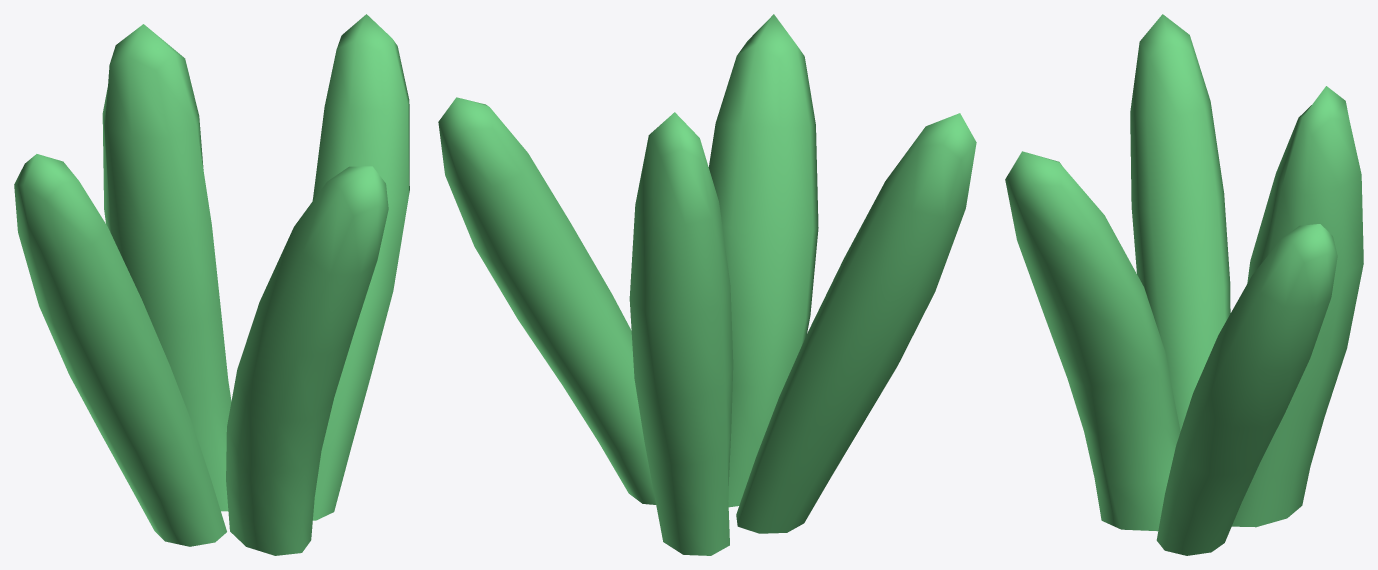
The model's file is Grass_A_02.fbx.
3 views of the same model, side by side, from view 1: azimuth 30°, elevation 25°; view 2: azimuth 150°, elevation 25°; view 3: azimuth 270°, elevation 25° (orthographic). The views are drawn at different scales.
Parts seen in each view (by area): view 1: Grass_A_02_LOD0; view 2: Grass_A_02_LOD0; view 3: Grass_A_02_LOD0.
Part boxes in pixels (<box>): Grass_A_02_LOD0: <box>14,14,409,555</box>; Grass_A_02_LOD0: <box>438,14,976,555</box>; Grass_A_02_LOD0: <box>1005,14,1363,555</box>.
Size of what is drawn, in the model's own units: 335 by 318 by 247.
